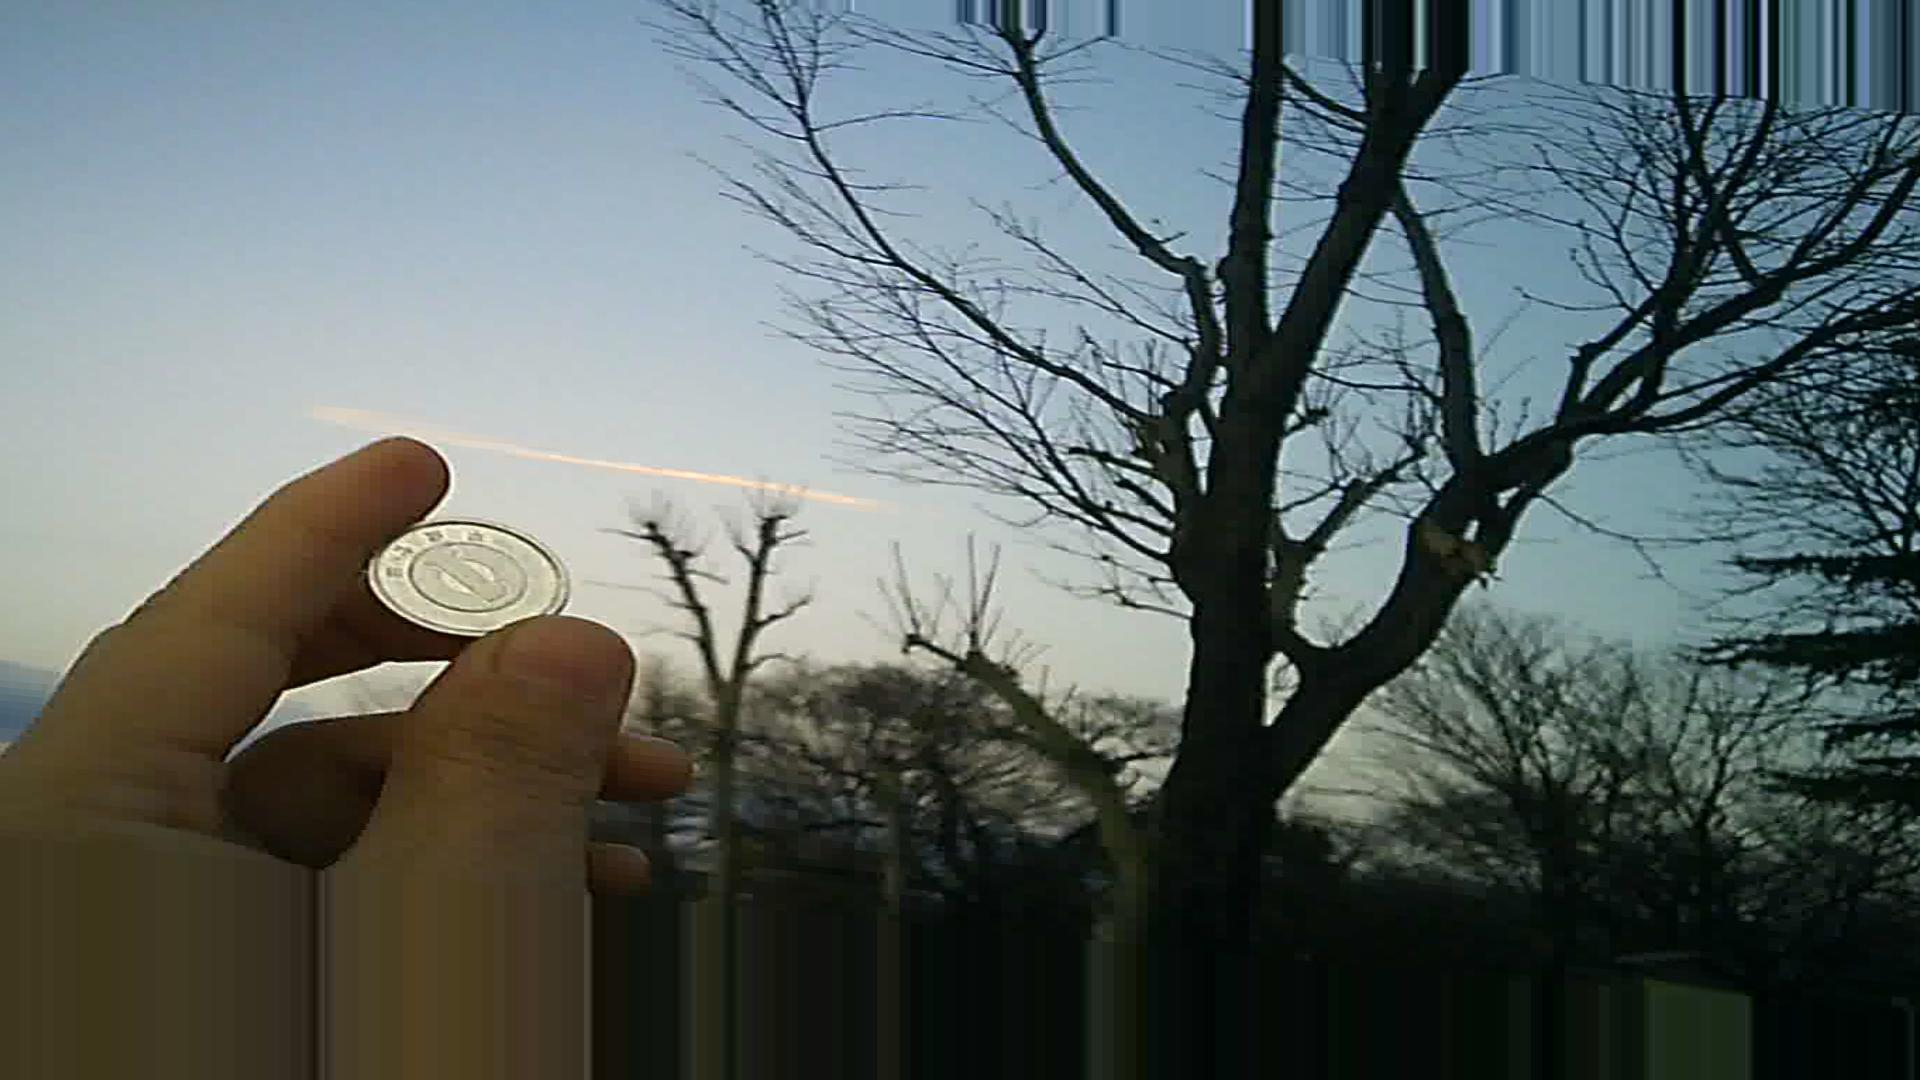1 Yen: (360, 502, 560, 647)
